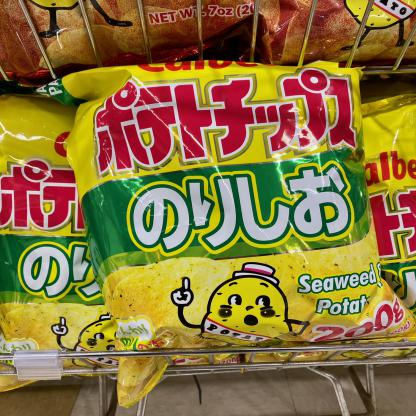potatochip: (43, 55, 416, 412), (0, 88, 166, 395), (299, 90, 416, 361)
